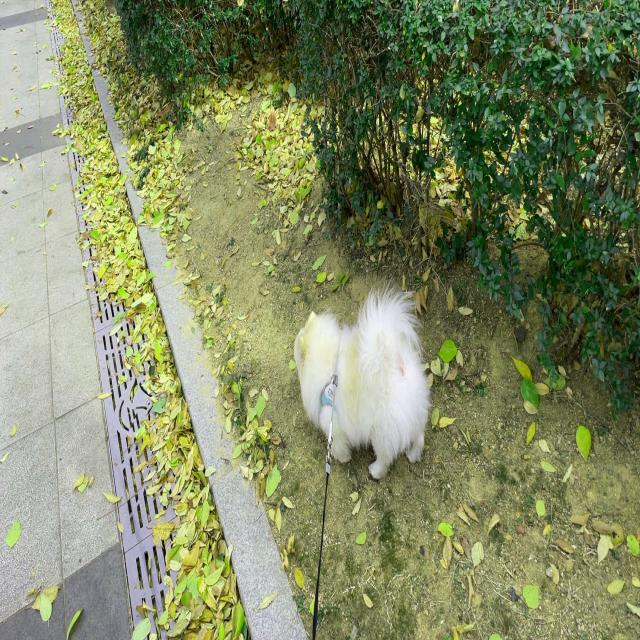Dog: (294, 281, 431, 478)
